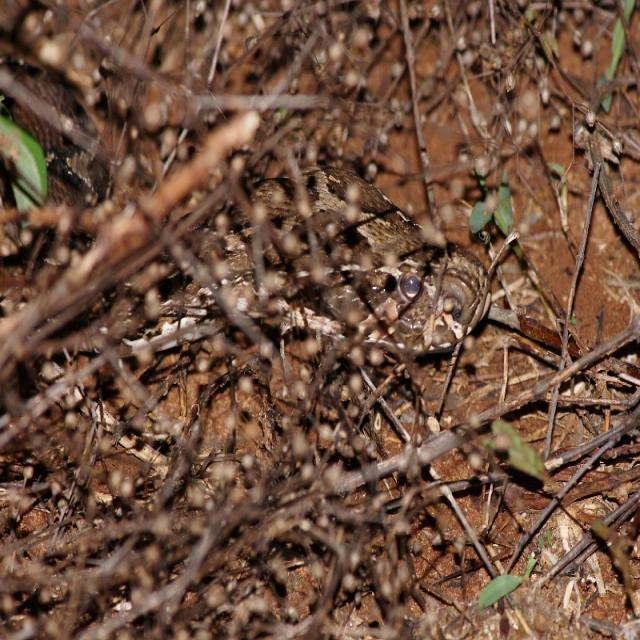Snake: (219, 166, 486, 356)
